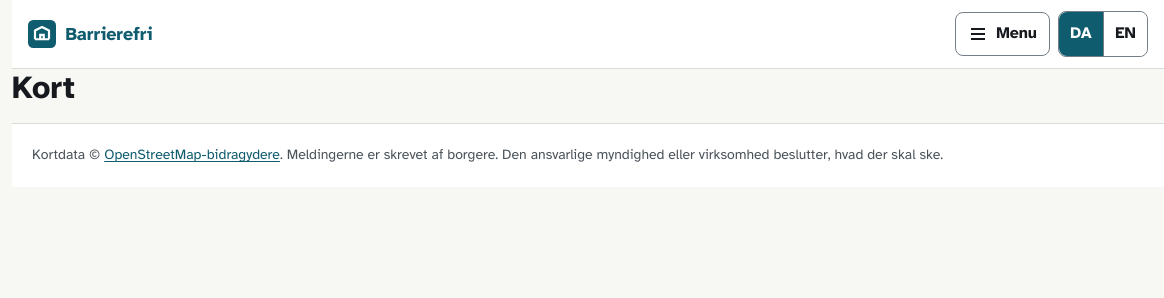
Test: header on a compact screen › closes on Escape and puts focus back on the menu button
Step 1. Click the button "Menu" → (1003, 34), box [955, 12, 1050, 56]
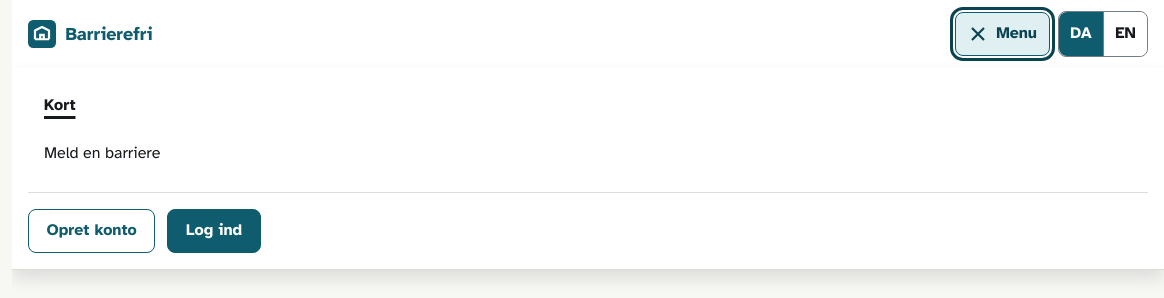
Step 2. Press Tab
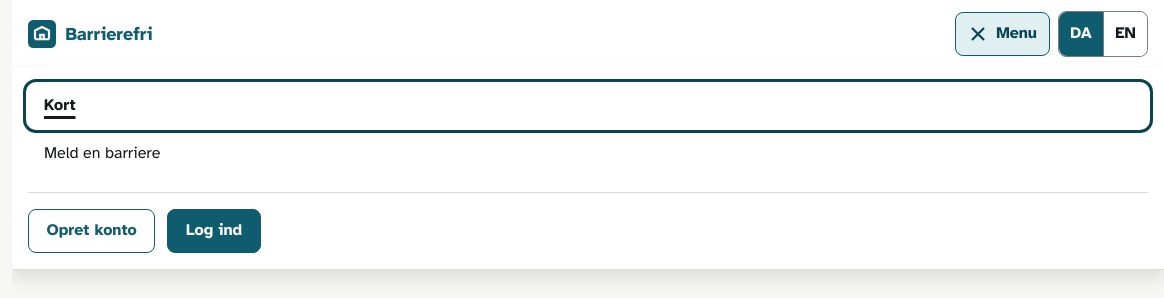
Step 3. Press Escape
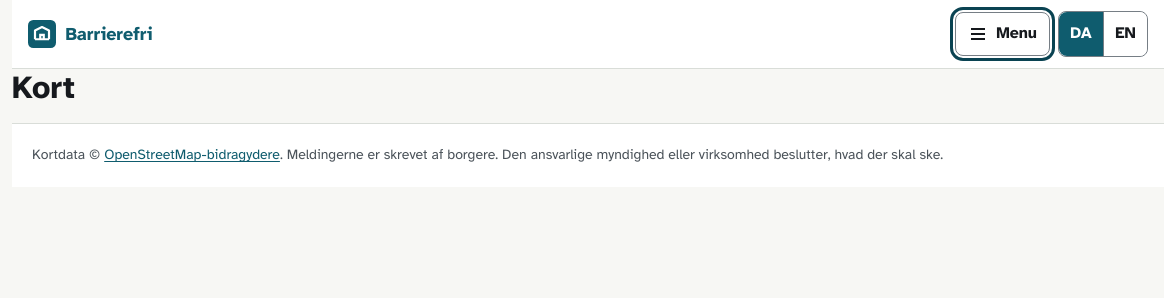
Check: the button "Menu" is collapsed, box [955, 12, 1050, 56]
Check: the navigation bar is gone
